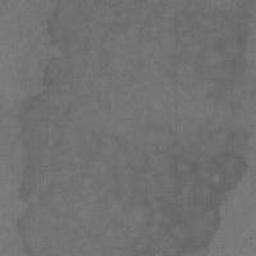Water spot: (13, 0, 256, 256)
